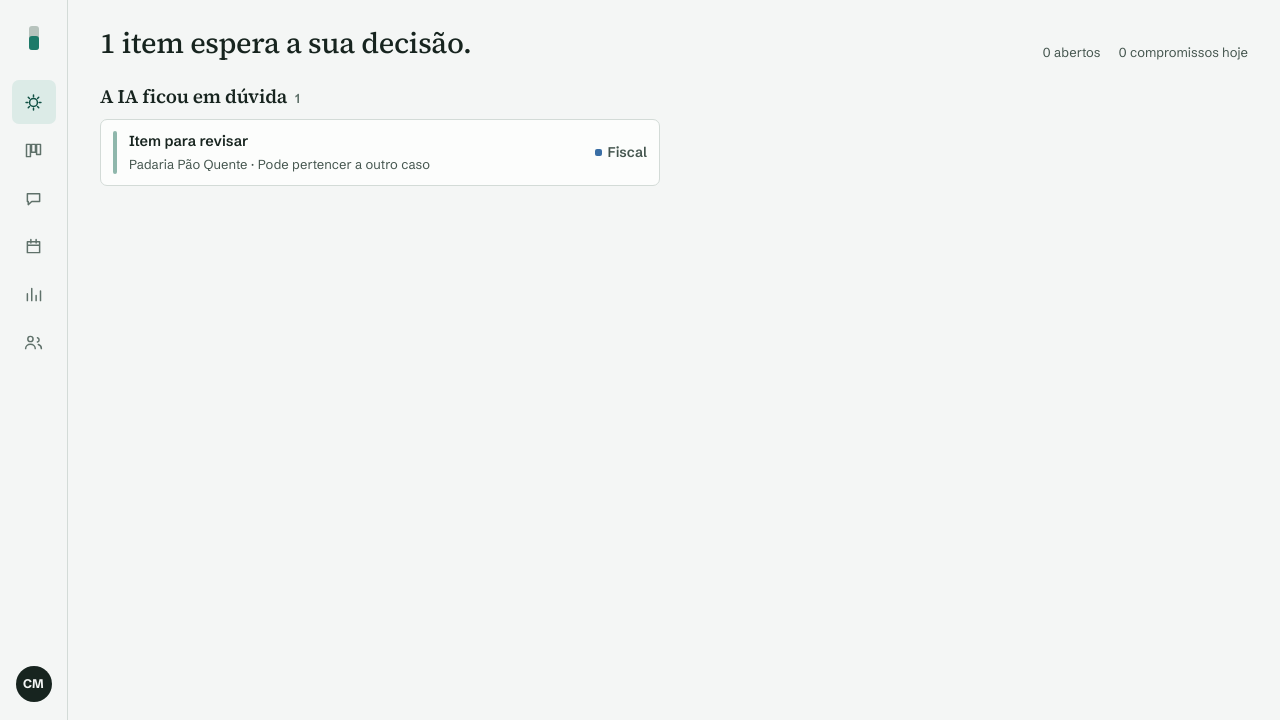
Test: today page › lists the items the AI was unsure about and opens one
What coordinates should you click on to do the following:
click the button "Item para revisar"
I would click on:
 (189, 141)
Its box is x1=100 y1=119 x2=660 y2=186.
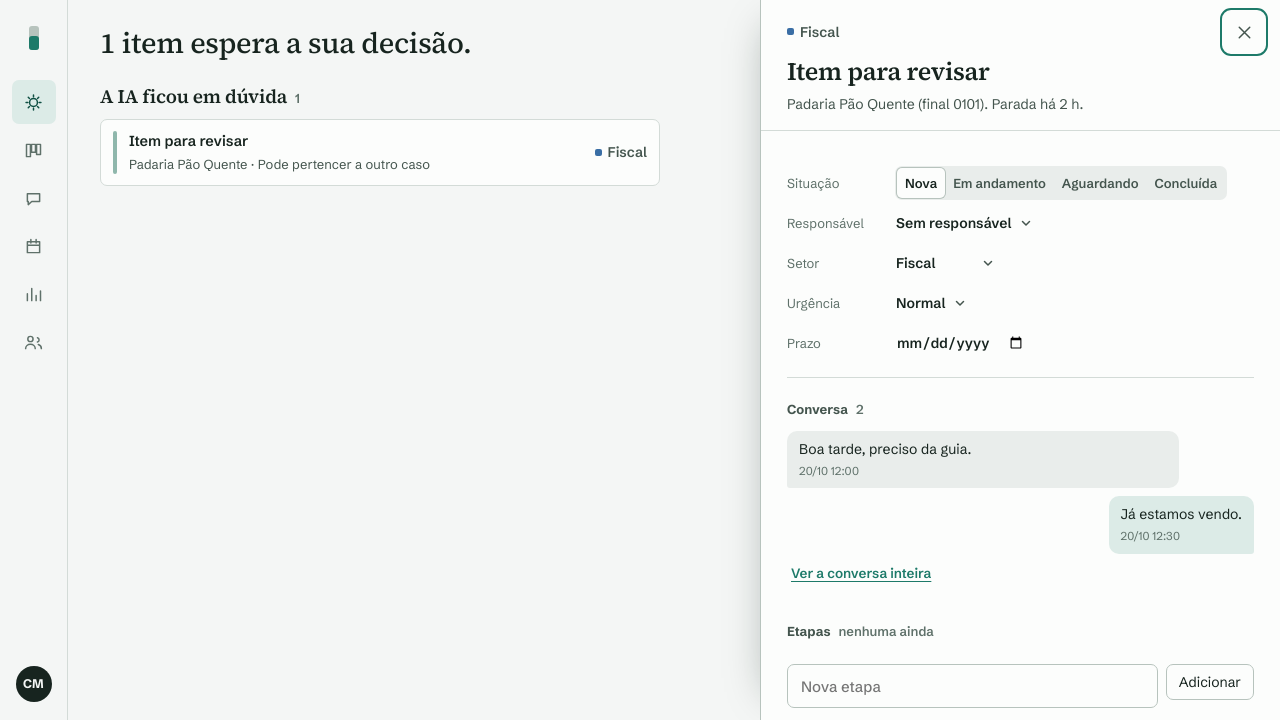
Check: the dialog is shown, box x1=760 y1=0 x2=1279 y2=719
